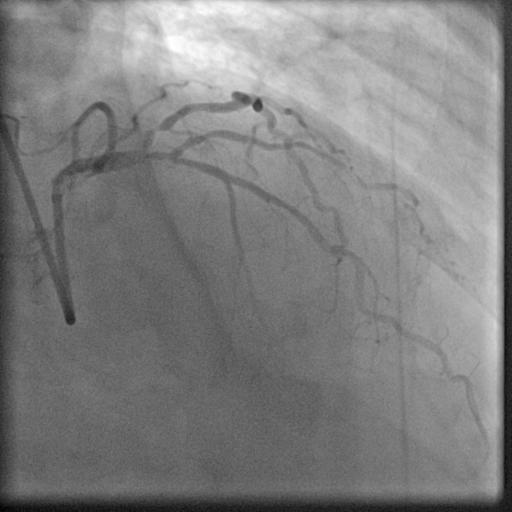Stenosis: (143, 117, 166, 142)
